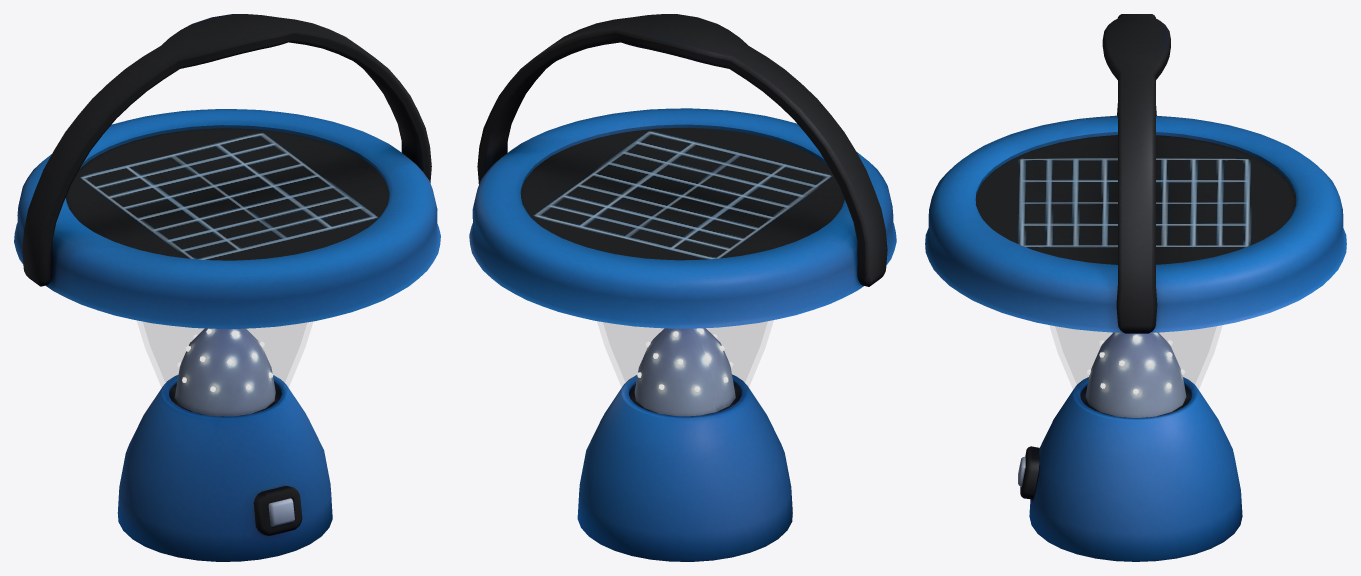
File: solar_lantern.gltf
3 renders of one model, left to right at view 1: azimuth 30°, elevation 25°; view 2: azimuth 150°, elevation 25°; view 3: azimuth 270°, elevation 25°, orthographic.
Visible parts, largest first — view 1: solar lantern, glass; view 2: solar lantern, glass; view 3: solar lantern, glass.
Part boxes in pixels (x1,y1,x2,y2): solar lantern: [14, 14, 440, 561]; glass: [143, 322, 306, 391]; solar lantern: [469, 14, 896, 561]; glass: [603, 322, 767, 390]; solar lantern: [925, 14, 1346, 561]; glass: [1055, 327, 1216, 393].
Size of the model in its own units: 0.3298 by 0.3911 by 0.31.
3 materials, 1 textured.
